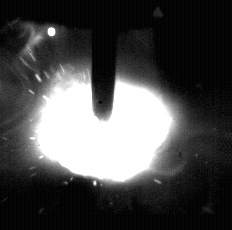arame: (92, 0, 116, 121)
poca: (36, 0, 171, 230)
